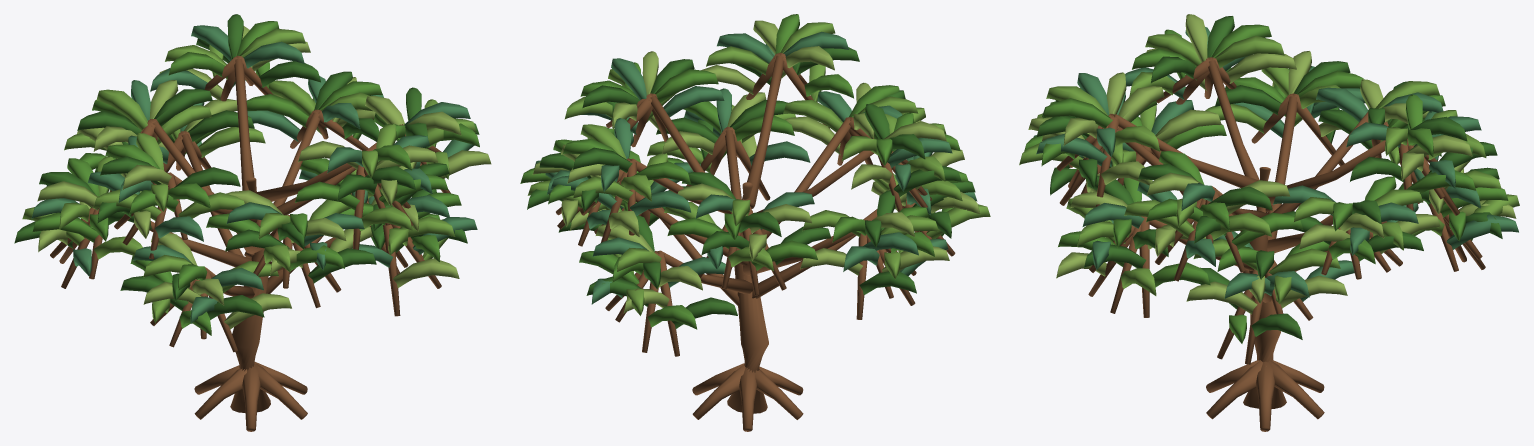
Rendered from hero-willow.glb.
3 renders of one model, left to right at view 1: azimuth 30°, elevation 25°; view 2: azimuth 150°, elevation 25°; view 3: azimuth 270°, elevation 25°, orthographic. The views are drawn at different scales.
Parts seen in each view (by area): view 1: Tapered fluted trunk.003, Primary branch.052, Folded willow leaf.081, Folded willow leaf.124, Folded willow leaf.063, Folded willow leaf.112, Folded willow leaf.064, Folded willow leaf.172, Folded willow leaf.174, Surface root.020, Surface root.019, Folded willow leaf.190 (+87 smaller); view 2: Tapered fluted trunk.003, Primary branch.053, Folded willow leaf.140, Folded willow leaf.097, Folded willow leaf.142, Folded willow leaf.177, Primary branch.048, Primary branch.050, Folded willow leaf.163, Surface root.022, Surface root.023, Folded willow leaf.160 (+88 smaller); view 3: Tapered fluted trunk.003, Primary branch.051, Folded willow leaf.156, Folded willow leaf.028, Primary branch.046, Folded willow leaf.176, Primary branch.053, Folded willow leaf.158, Primary branch.052, Folded willow leaf.010, Surface root.018, Surface root.023 (+88 smaller).
Part boxes in pixels (box(x1,y1,x2,y2)): Tapered fluted trunk.003: box(230, 177, 270, 412); Primary branch.052: box(234, 59, 254, 190); Folded willow leaf.081: box(246, 94, 309, 127); Folded willow leaf.124: box(154, 89, 212, 126); Folded willow leaf.063: box(393, 258, 459, 287); Folded willow leaf.112: box(96, 89, 147, 130); Folded willow leaf.064: box(37, 181, 99, 210); Folded willow leaf.172: box(243, 41, 304, 68); Folded willow leaf.174: box(259, 61, 320, 87); Surface root.020: box(242, 365, 260, 431); Surface root.019: box(254, 363, 307, 419); Folded willow leaf.190: box(295, 181, 359, 210); Tapered fluted trunk.003: box(727, 182, 768, 413); Primary branch.053: box(742, 55, 784, 208); Folded willow leaf.140: box(655, 69, 718, 102); Folded willow leaf.097: box(783, 99, 843, 132); Folded willow leaf.142: box(663, 86, 724, 117); Folded willow leaf.177: box(706, 46, 768, 75); Primary branch.048: box(761, 119, 850, 238); Primary branch.050: box(650, 95, 704, 172); Folded willow leaf.163: box(630, 190, 691, 216); Surface root.022: box(739, 367, 756, 431); Surface root.023: box(692, 365, 748, 419); Folded willow leaf.160: box(572, 147, 632, 172); Tapered fluted trunk.003: box(1243, 167, 1286, 408); Primary branch.051: box(1208, 60, 1272, 212); Folded willow leaf.156: box(1215, 35, 1284, 68); Folded willow leaf.028: box(1155, 109, 1221, 142); Primary branch.046: box(1267, 96, 1297, 240); Folded willow leaf.176: box(1042, 98, 1112, 128); Primary branch.053: box(1113, 114, 1258, 187); Folded willow leaf.158: box(1226, 53, 1296, 83); Primary branch.052: box(1268, 140, 1385, 205); Folded willow leaf.010: box(1186, 281, 1257, 314); Surface root.018: box(1256, 361, 1274, 431); Surface root.023: box(1264, 360, 1324, 419).
Bounding box in the file's own units: 0.205 × 0.1507 × 0.2065.
